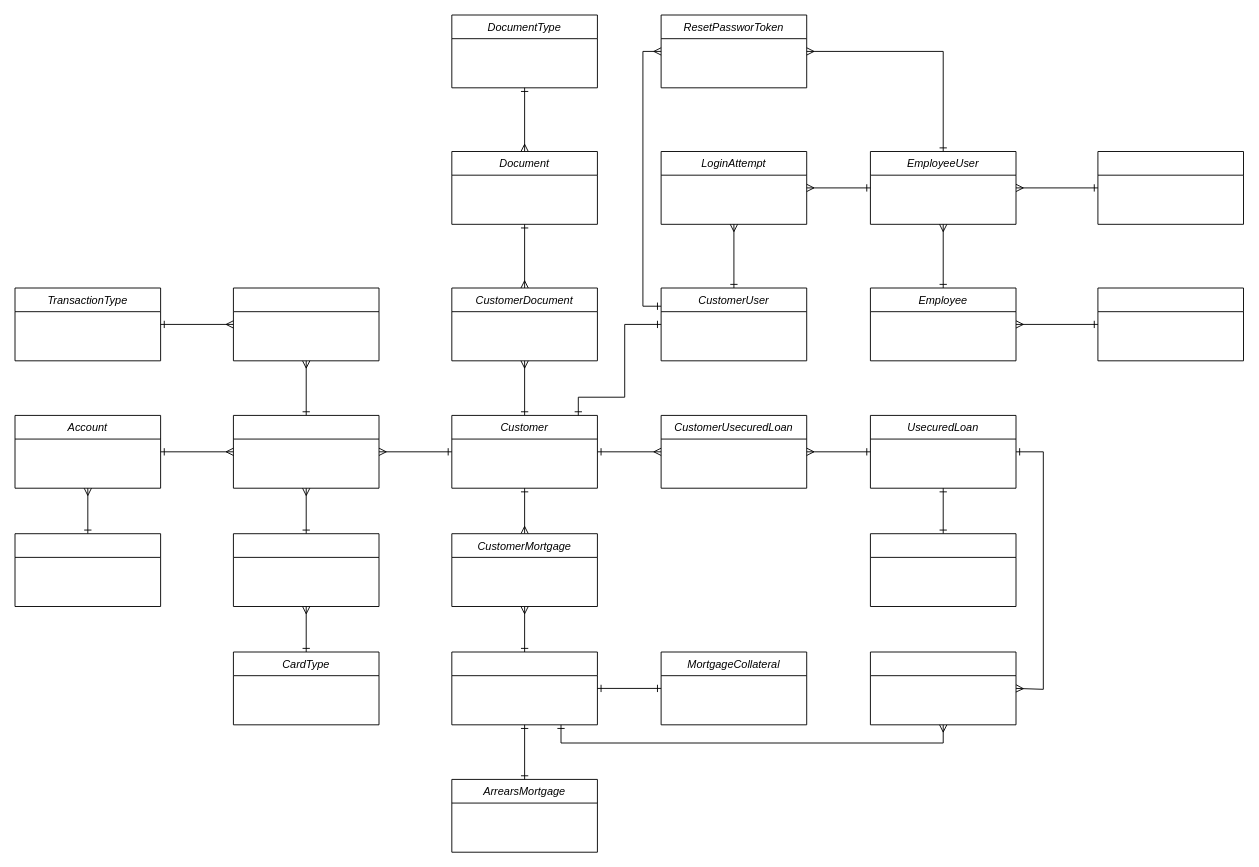
The diagram is 1259 pixels wide and 867 high, and some of its shapes have lost their labels. The shapes that lost their labels are listed below. From the top down, each one's box as (x1, y1, x2, y2) in pixels, then its label:
(1097, 151, 1244, 224): Platform
(233, 287, 379, 361): Transaction
(1097, 287, 1244, 361): Department
(233, 415, 379, 488): Diposition
(14, 533, 161, 607): AccountType
(233, 533, 379, 607): Card
(870, 533, 1016, 607): ArrearsUnsecuredLoan
(451, 651, 597, 725): Mortgage
(870, 651, 1016, 725): RePayment
